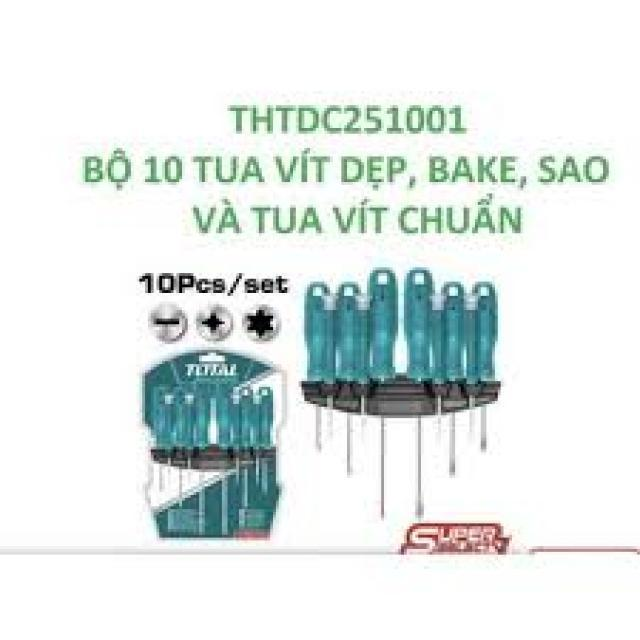screwdriver: (398, 264, 435, 530), (364, 263, 401, 525), (436, 272, 470, 482), (330, 276, 364, 478), (469, 272, 504, 462), (300, 276, 332, 461)
